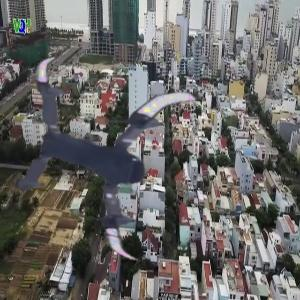drone: (10, 60, 214, 264)
